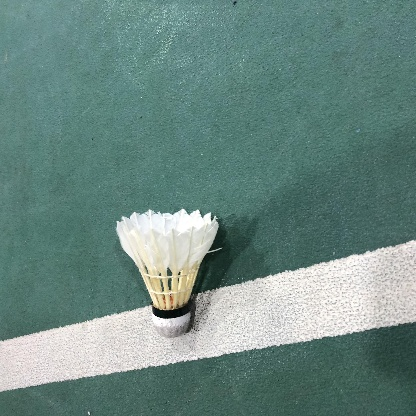ball_single: (116, 209, 219, 338)
